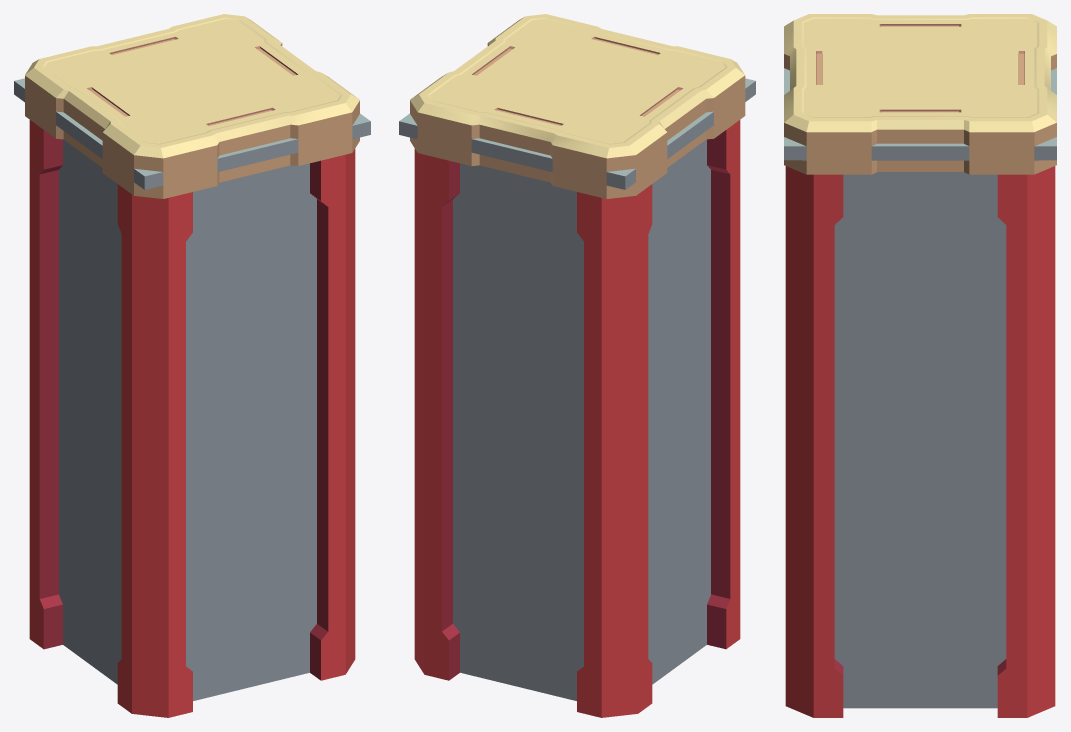
Rendered from Floor Tile.fbx.
3 views of the same model, side by side, from view 1: azimuth 30°, elevation 25°; view 2: azimuth 150°, elevation 25°; view 3: azimuth 270°, elevation 25° (orthographic). The views are drawn at different scales.
Visible parts, largest first — view 1: Floor Tile; view 2: Floor Tile; view 3: Floor Tile.
Boxes of the visible parts, x1,y1,x2,y2 form: Floor Tile: (14, 14, 370, 717); Floor Tile: (399, 14, 755, 717); Floor Tile: (784, 14, 1056, 717).
Size of the model in its own units: 5 by 12 by 5.
